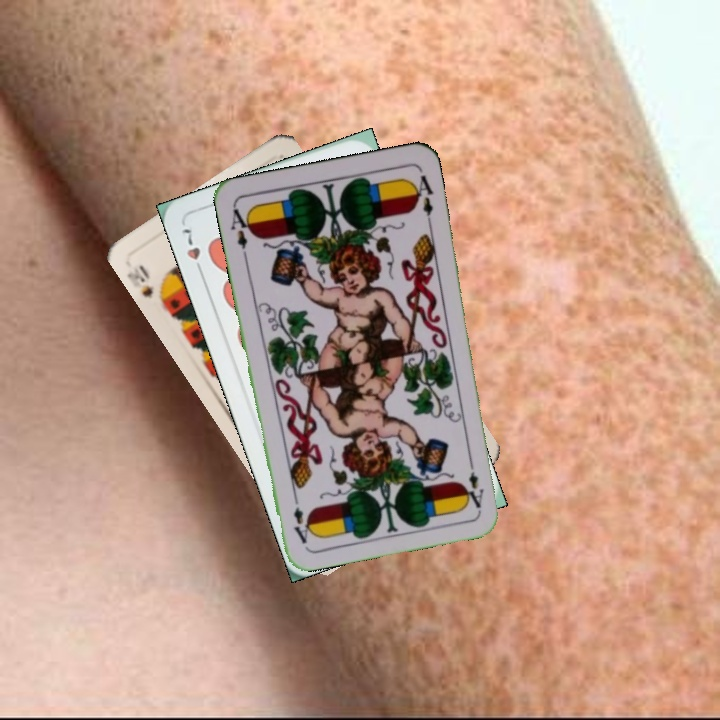EA: (226, 203, 255, 252), (464, 453, 486, 511)
H7: (177, 224, 207, 279)
S10: (123, 261, 167, 308)
